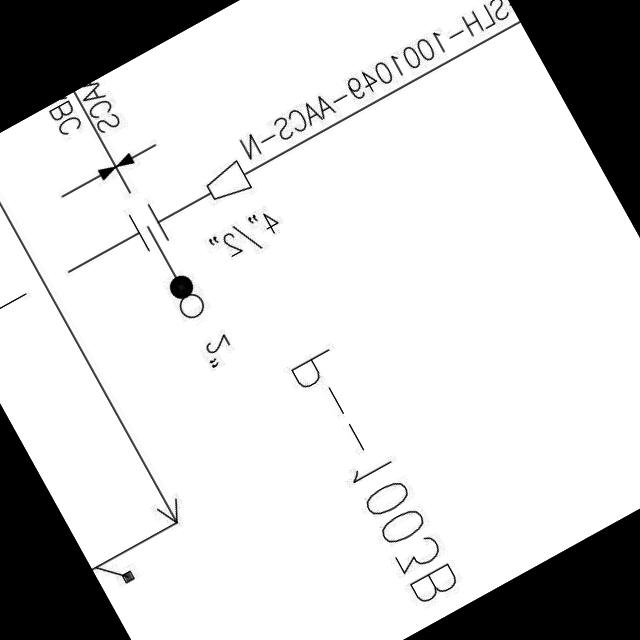SP: (195, 151, 259, 211)
